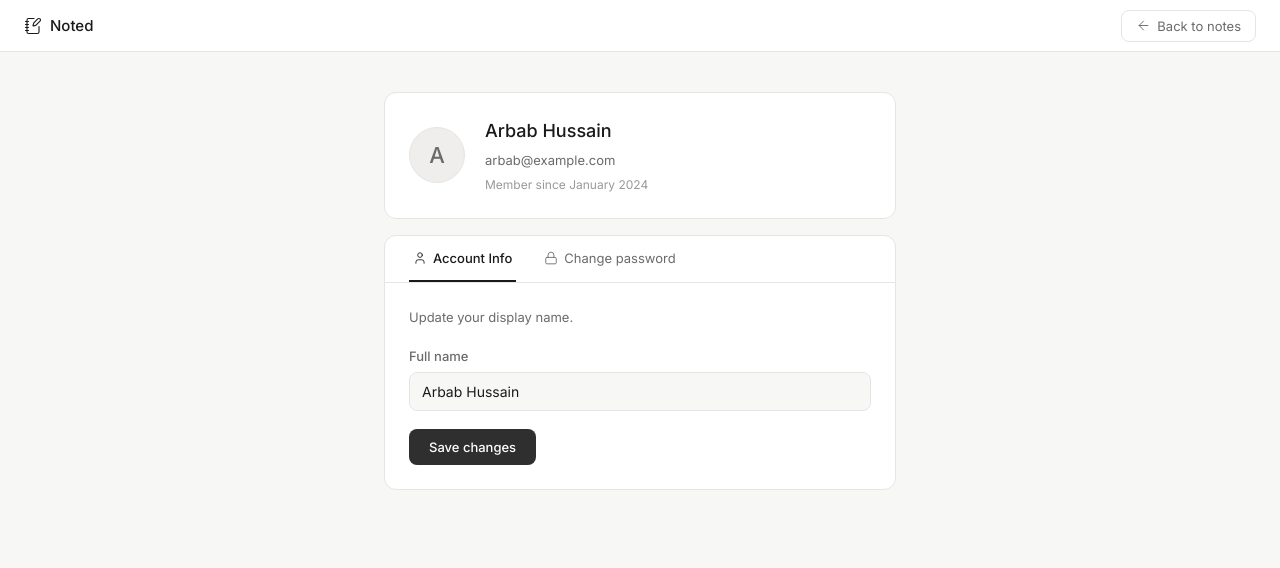
Test: Profile Page › should show error when update info fails
Expected: the heading "Arbab Hussain" is shown, [485,120,612,141]
Replace the text in the field showing "Arbab Hussain" with "New Name" at (640, 392), box [409,372,871,411]
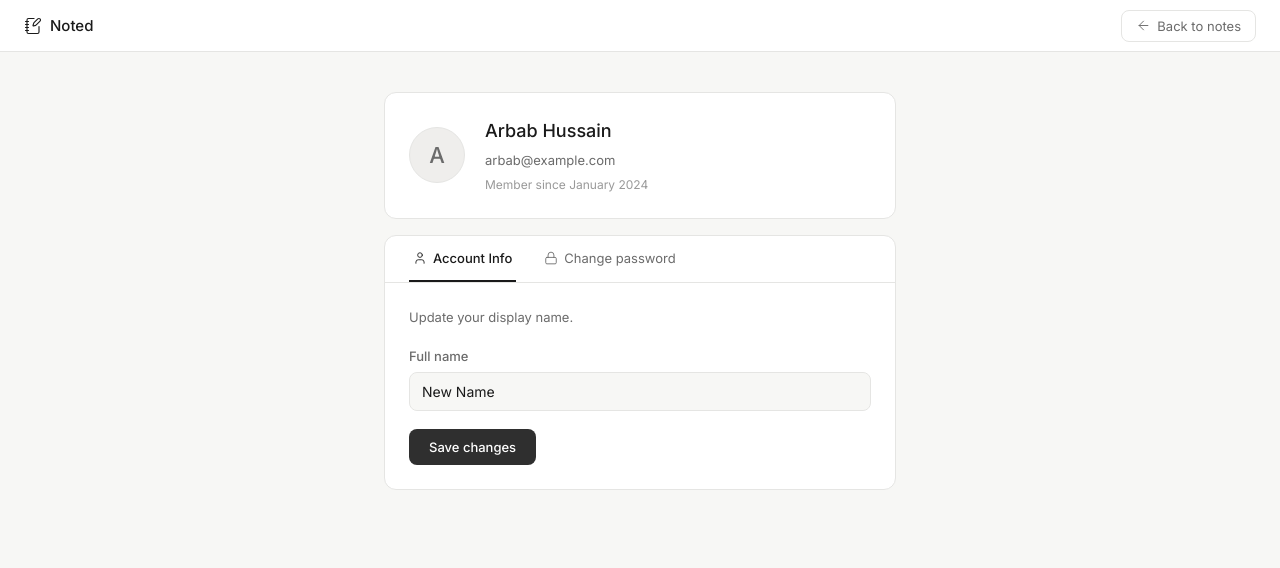
Click the button "Save changes".
click(473, 447)  # box [409,429,536,465]
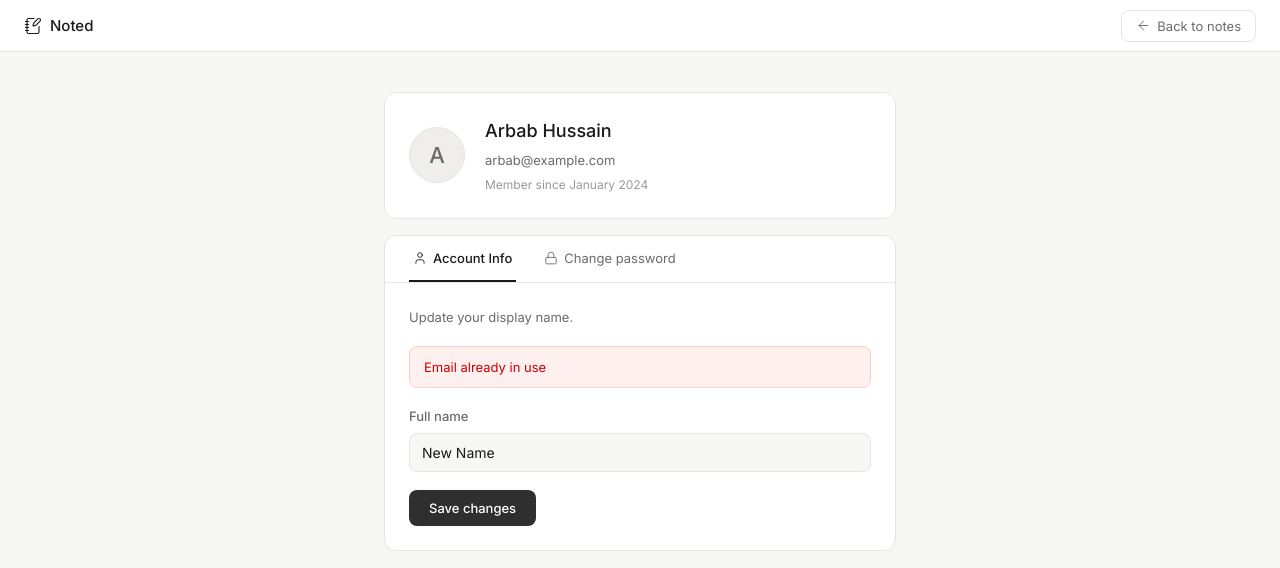
Result: the text "Email already in use" is shown at [409,346,871,388]
